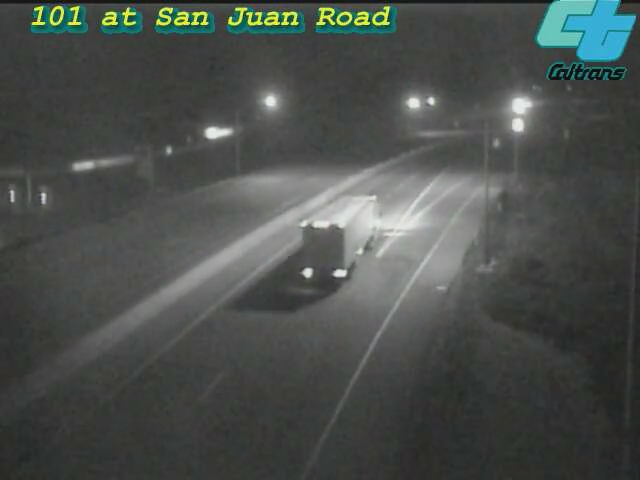vehicle: (303, 199, 383, 279), (493, 101, 543, 151), (493, 82, 543, 132)
